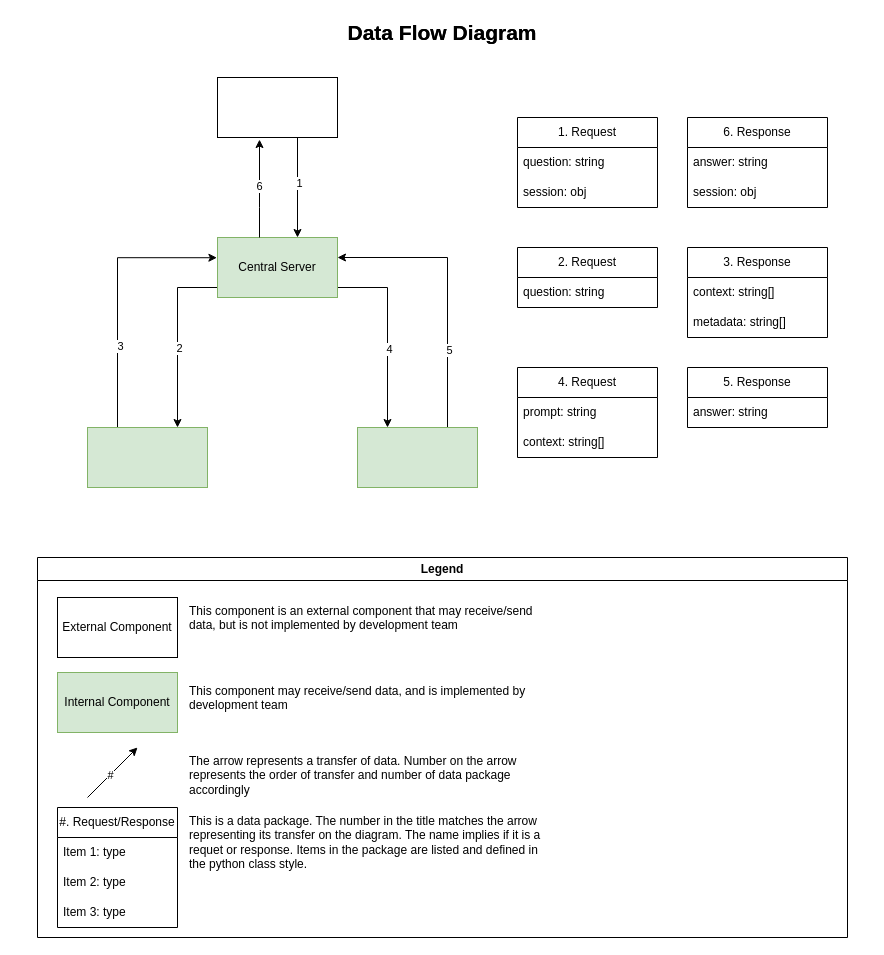
The diagram is 884 pixels wide and 955 high, and some of its shapes have lost their labels. Here are the shapes that lost their labels. From the top down, the centre of each, then its label:
[277,107]: External Service
[147,457]: Database
[417,457]: LLM Controller
